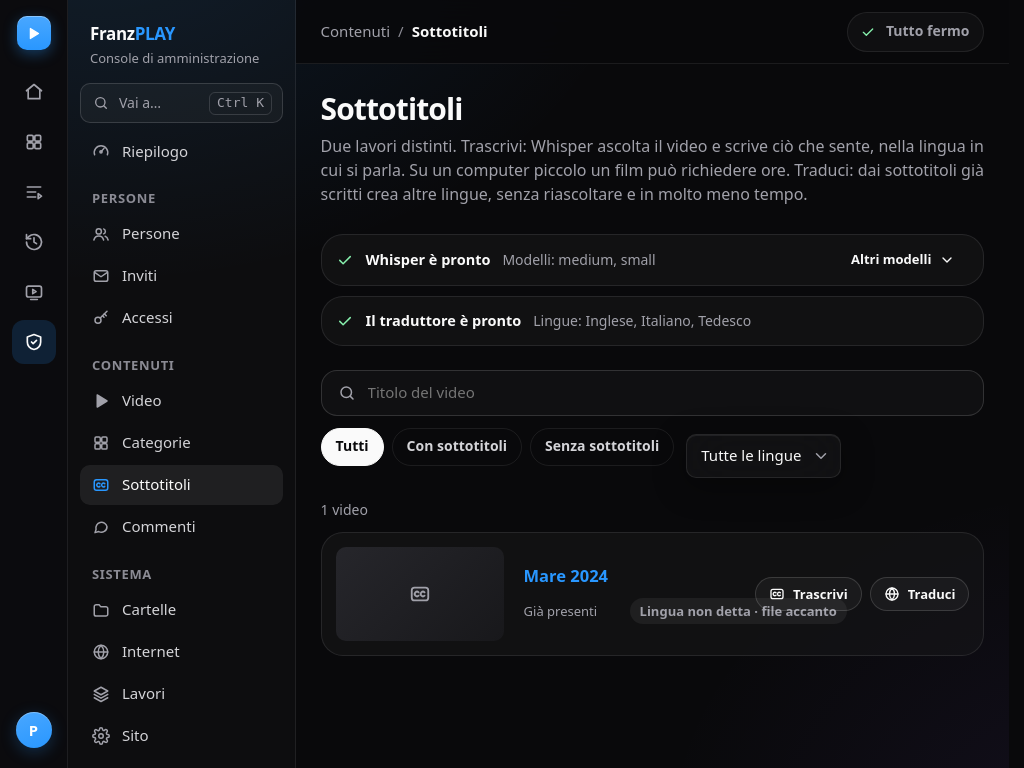
Scenario: subtitles page › explains a file that does not say its language
Expected: the list named "Video" is shown, 321,532 -> 984,656
Click the button "Traduci". click: (920, 594)
box: 870,577 -> 969,611
(page scrolled)
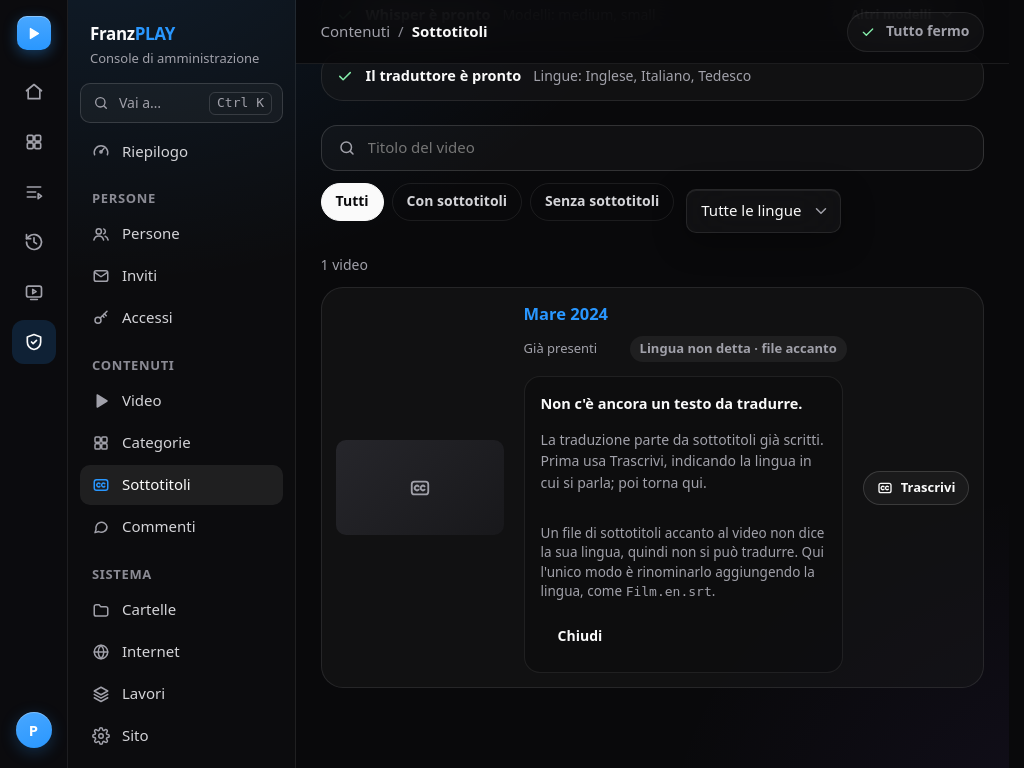
Expected: the form named "Traduci Mare 2024" shows "l'unico modo è rinominarlo", 541,524 -> 824,600
